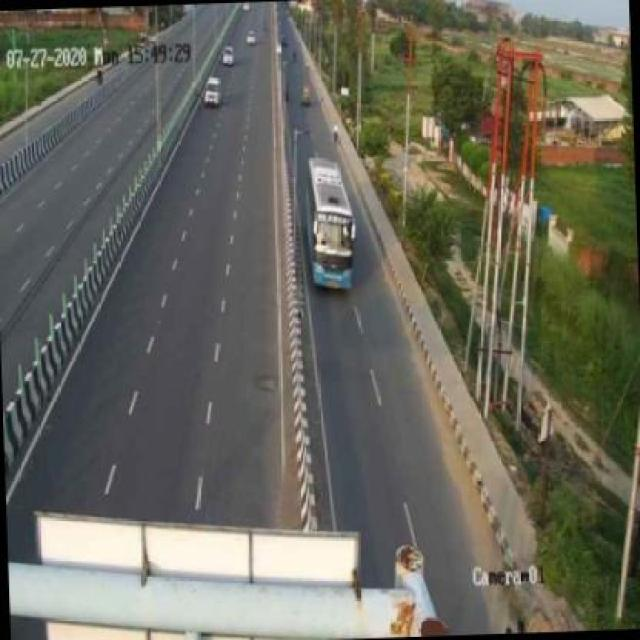car: (203, 72, 223, 108), (298, 82, 318, 115), (220, 38, 237, 72)
